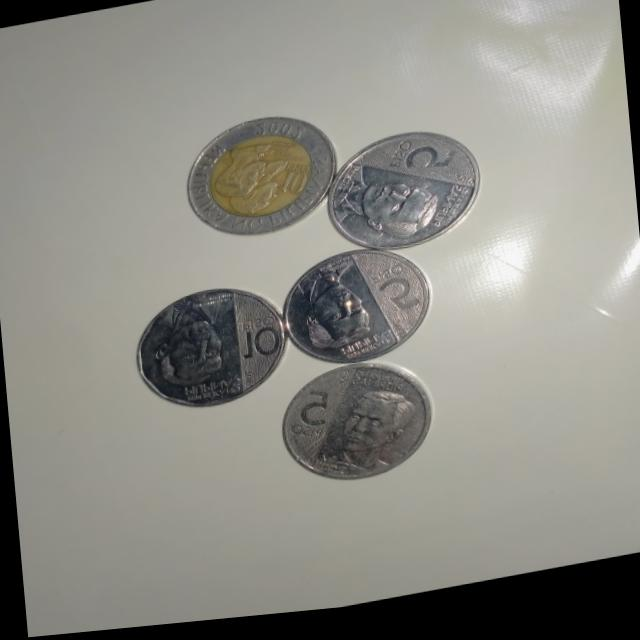10_New_Front: (146, 292, 280, 410)
10_Old_Front: (194, 115, 332, 242)
5_New_Front: (337, 136, 473, 251), (294, 256, 420, 366), (296, 374, 415, 481)
